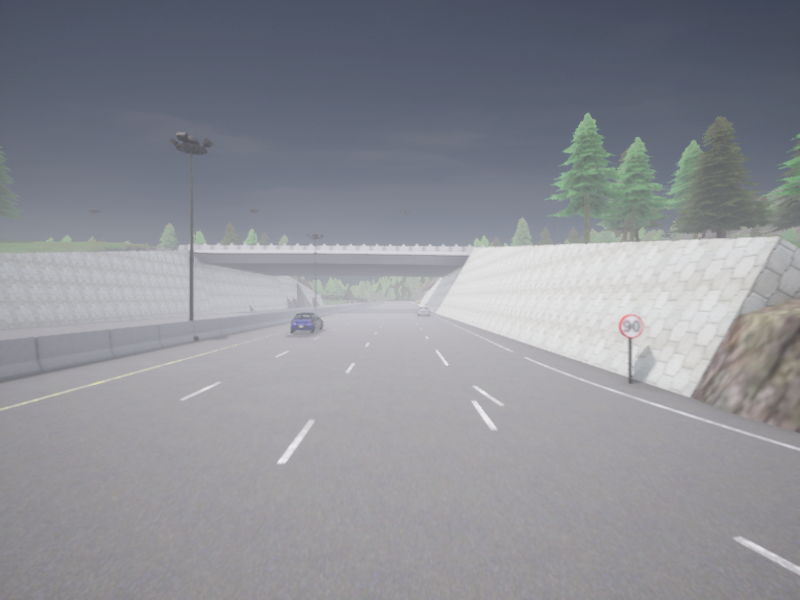vehicle: (290, 312, 323, 332), (416, 306, 429, 315)
